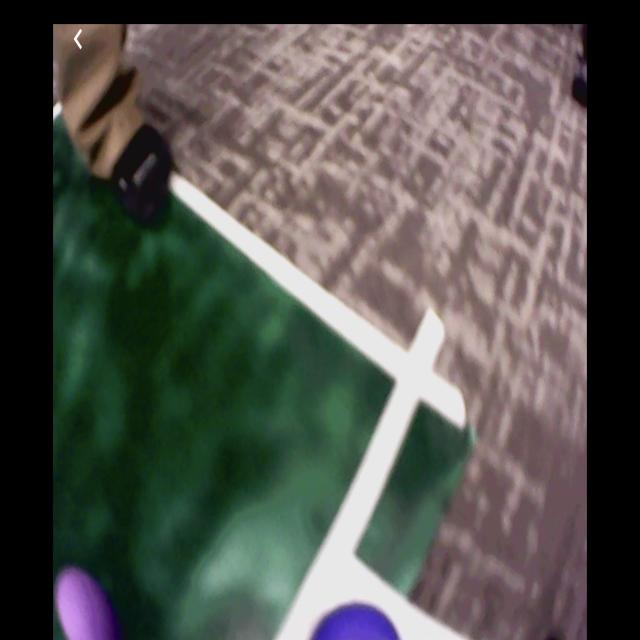ball: (58, 572, 114, 640), (310, 601, 400, 640)
